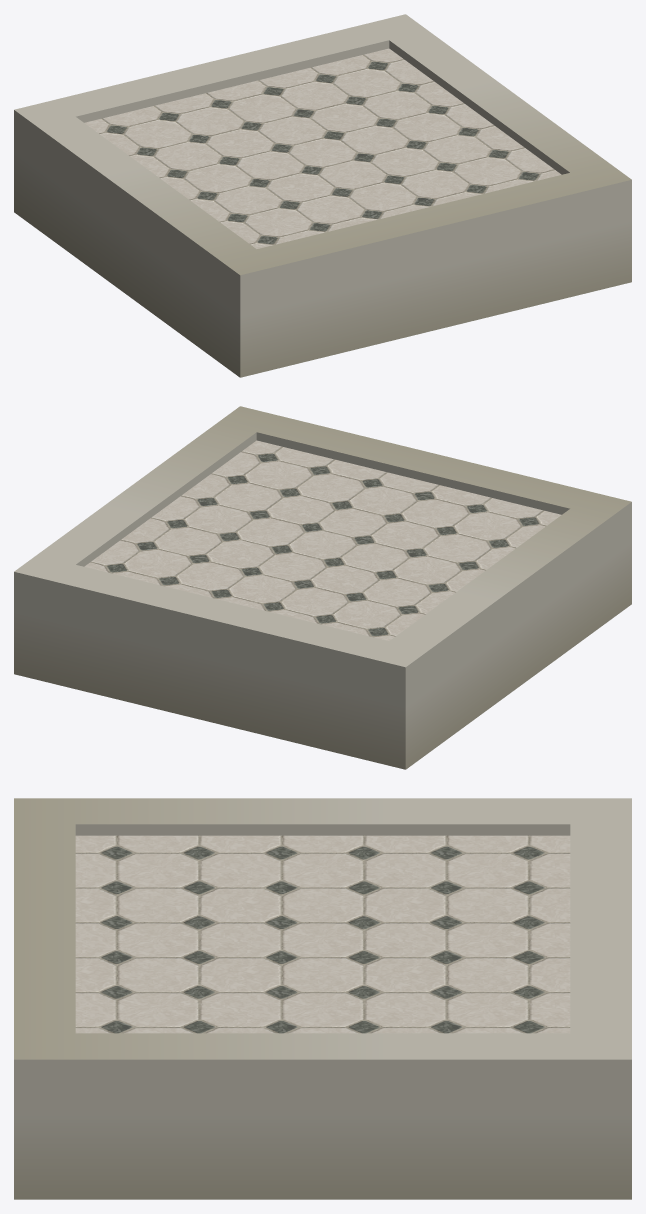
The model's file is TILE_006_RuinsGate.fbx.
The picture shows the model from 3 angles, top to bottom: view 1: azimuth 30°, elevation 25°; view 2: azimuth 150°, elevation 25°; view 3: azimuth 270°, elevation 25°; orthographic projection. The views are drawn at different scales.
Visible parts, largest first — view 1: TILE_001_RuinsGate; view 2: TILE_001_RuinsGate; view 3: TILE_001_RuinsGate.
Boxes of the visible parts, left/top/right/bottom form: TILE_001_RuinsGate: left=14, top=14, right=631, bottom=377; TILE_001_RuinsGate: left=14, top=406, right=631, bottom=769; TILE_001_RuinsGate: left=14, top=798, right=631, bottom=1199.
Size of the model in its own units: 98.43 by 24.61 by 98.43.
